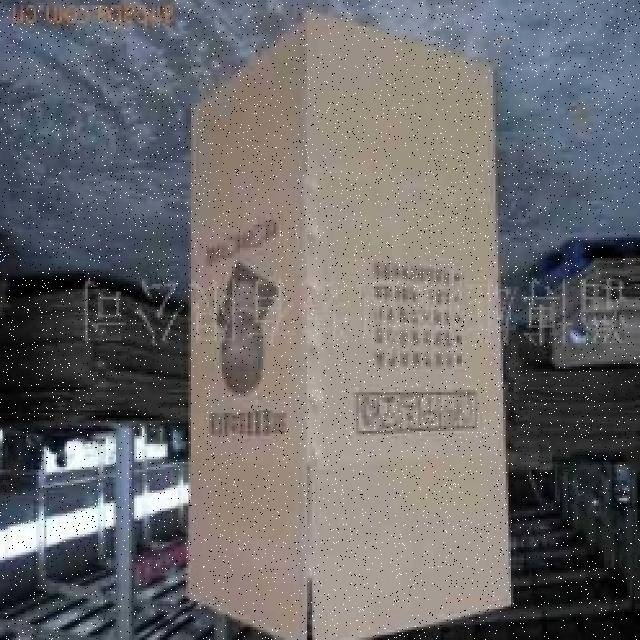box: (153, 29, 534, 633)
